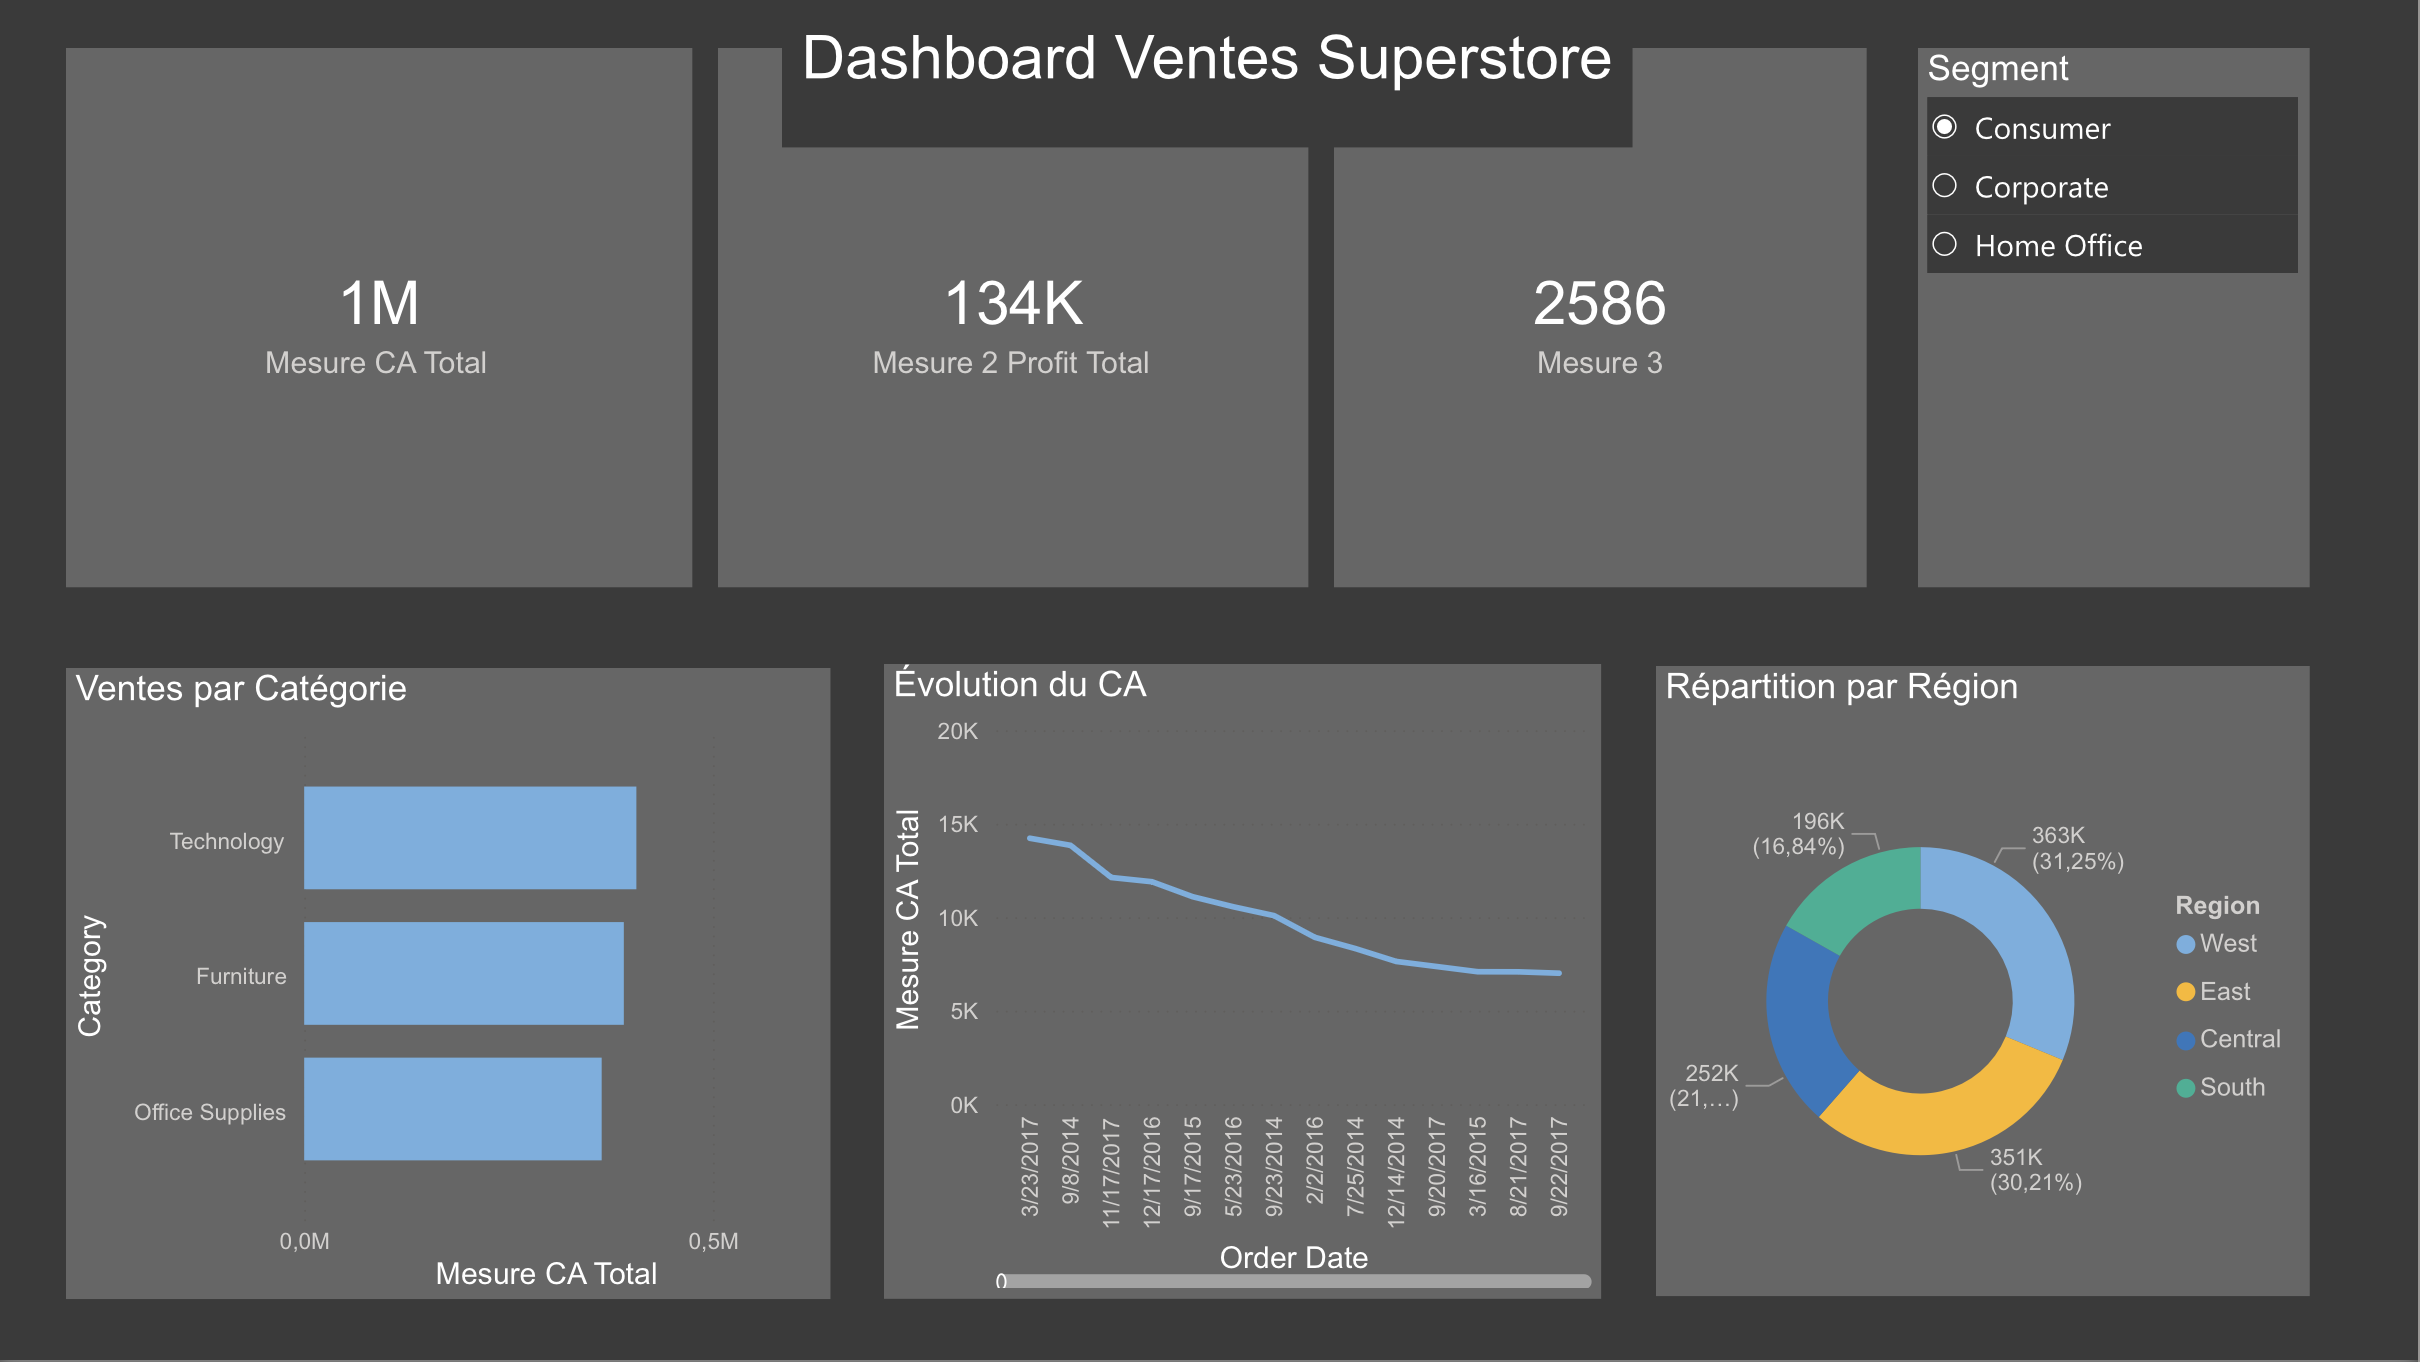

What the dashboard file says about the page in this screenshot:
{"tool":"powerbi","page":{"name":"Page 1","canvas":[1280,720],"ordinal":0},"visuals":[{"type":"card","fields":{"Values":["Sample - Superstore.Mesure CA Total"]},"box":[36.9,26.8,330.9,285.1],"z":0},{"type":"card","fields":{"Values":["Sample - Superstore.Mesure 2 Profit Total"]},"box":[381.2,26.8,311.9,285.1],"z":1000},{"type":"card","fields":{"Values":["Sample - Superstore.Mesure 3"]},"box":[707.6,26.8,281.7,285.1],"z":2000},{"type":"barChart","title":"Ventes par Catégorie","fields":{"Y":["Sample - Superstore.Mesure CA Total"],"Category":["Sample - Superstore.Category"]},"box":[37.2,353.6,404.1,333.6],"z":3000},{"type":"lineChart","title":"Évolution du CA","fields":{"Y":["Sample - Superstore.Mesure CA Total"],"Category":["Sample - Superstore.Order Date"]},"box":[469.5,352.1,379,335.4],"z":4000},{"type":"donutChart","title":"Répartition par Région","fields":{"Category":["Sample - Superstore.Region"],"Y":["Sample - Superstore.Mesure CA Total"]},"box":[877.6,353.3,345.4,333.1],"z":5000},{"type":"listSlicer","fields":{"Values":["Sample - Superstore.Segment"]},"box":[1016.2,26.8,206.8,285.1],"z":6000},{"type":"textbox","box":[415.9,8.9,449.4,70.4],"z":6001}]}

Visuals, with their boxes in screenshot pixels (x1, y1, x2, y2), scaled from the page's 1280x720 canvas onto the 2420x1362 screenshot:
card - Sample - Superstore.Mesure CA Total: l=70, t=51, r=695, b=590
card - Sample - Superstore.Mesure 2 Profit Total: l=721, t=51, r=1310, b=590
card - Sample - Superstore.Mesure 3: l=1338, t=51, r=1870, b=590
"Ventes par Catégorie" barChart: l=70, t=669, r=834, b=1300
"Évolution du CA" lineChart: l=888, t=666, r=1604, b=1301
"Répartition par Région" donutChart: l=1659, t=668, r=2312, b=1298
listSlicer - Sample - Superstore.Segment: l=1921, t=51, r=2312, b=590
textbox: l=786, t=17, r=1636, b=150
